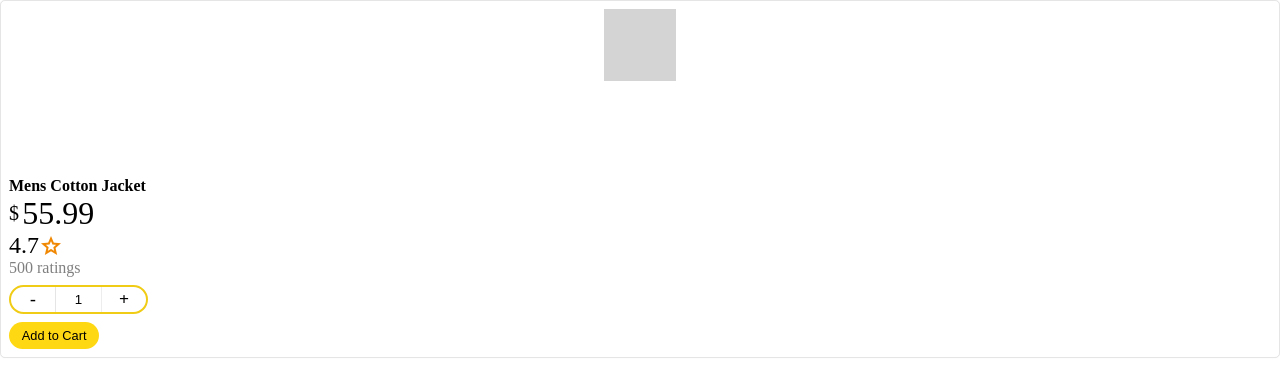
Scenario: Cart controls › decrements the quantity by one
The image size is (1280, 375).
Click the button "+". click: [124, 299]
box: [102,287,146,312]
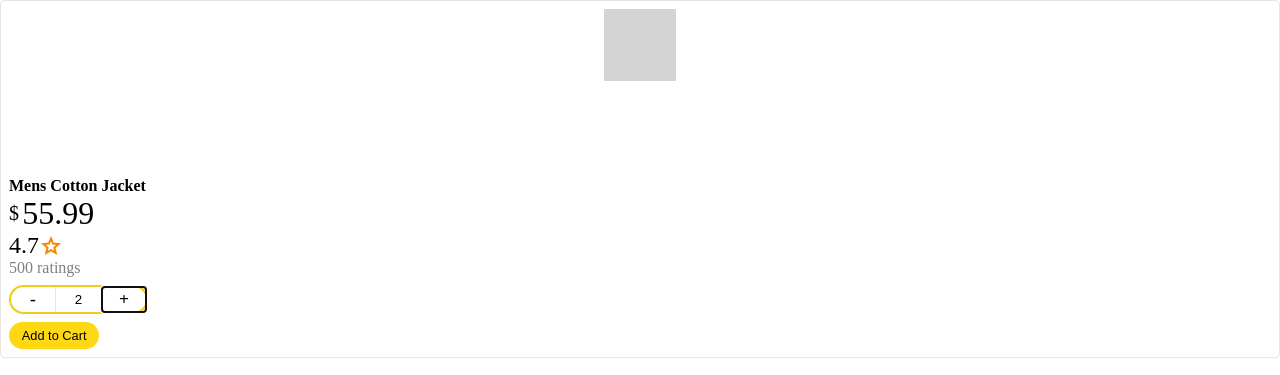
Click the button "-". click: [33, 299]
box: [11,287,55,312]
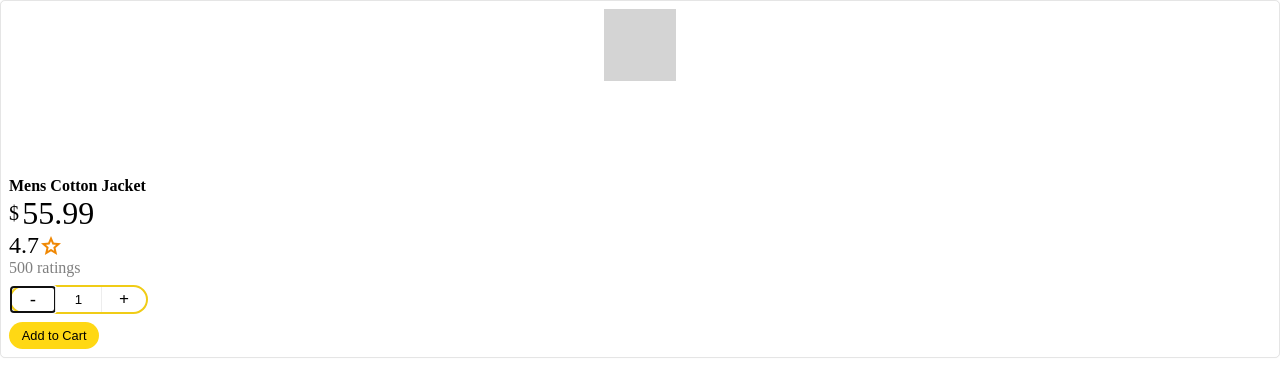
Now the number field named "Number of Items" holds "1", box [55,287,102,312]
